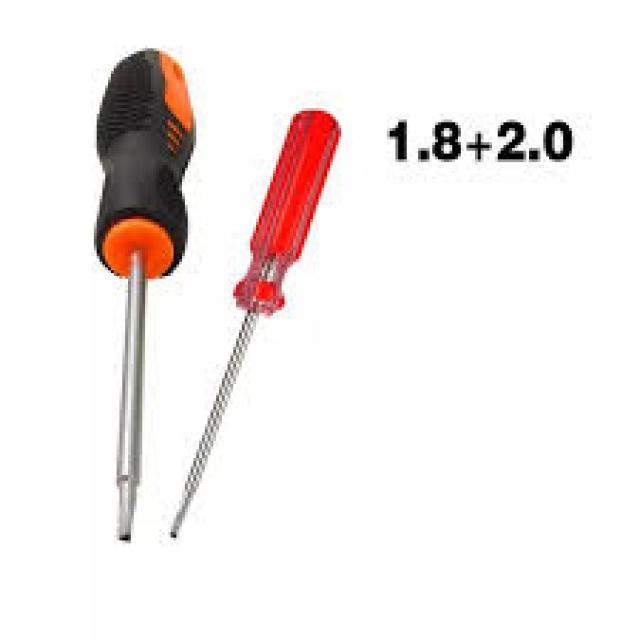screwdriver: (168, 104, 350, 542), (84, 45, 198, 549)
